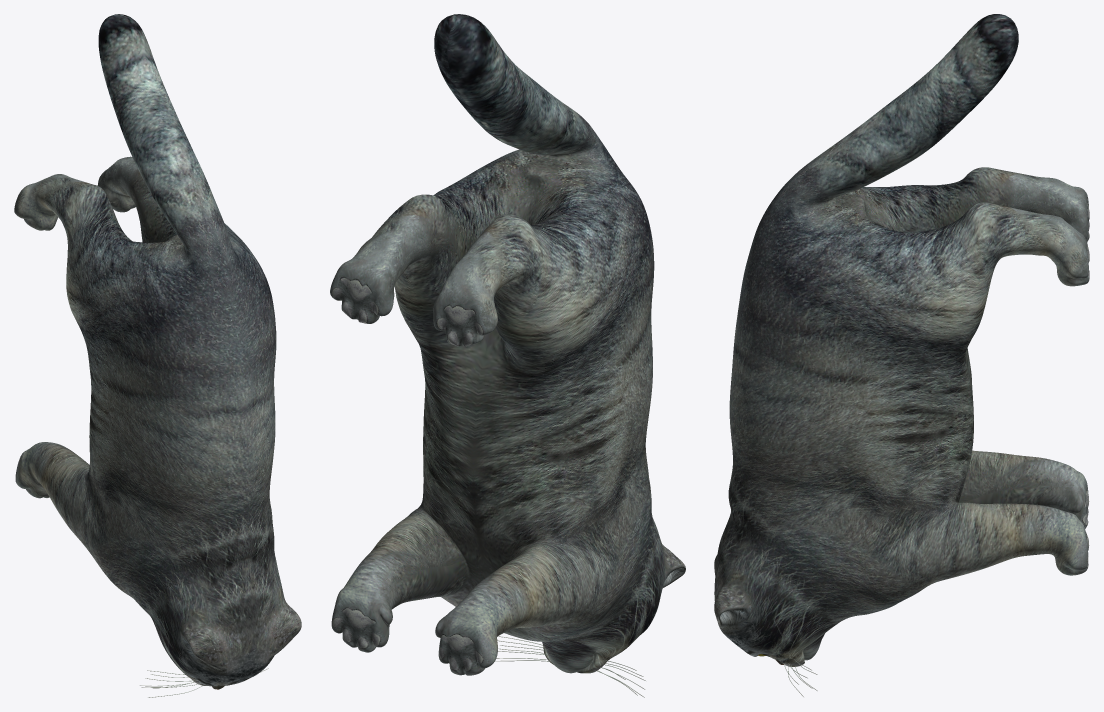
The model's file is cat.glb.
The picture shows the model from 3 angles, left to right: view 1: azimuth 30°, elevation 25°; view 2: azimuth 150°, elevation 25°; view 3: azimuth 270°, elevation 25°; orthographic projection. The views are drawn at different scales.
Parts seen in each view (by area): view 1: 13578_Pallas_Cat_v1_L3.002; view 2: 13578_Pallas_Cat_v1_L3.002; view 3: 13578_Pallas_Cat_v1_L3.002.
Part boxes in pixels (left/top/right/bottom): 13578_Pallas_Cat_v1_L3.002: left=14, top=14, right=301, bottom=697; 13578_Pallas_Cat_v1_L3.002: left=330, top=14, right=685, bottom=697; 13578_Pallas_Cat_v1_L3.002: left=714, top=14, right=1089, bottom=696.
Bounding box in the file's own units: 13.78 × 51.62 × 27.05.
Materials: 1 (1 with a texture image).
